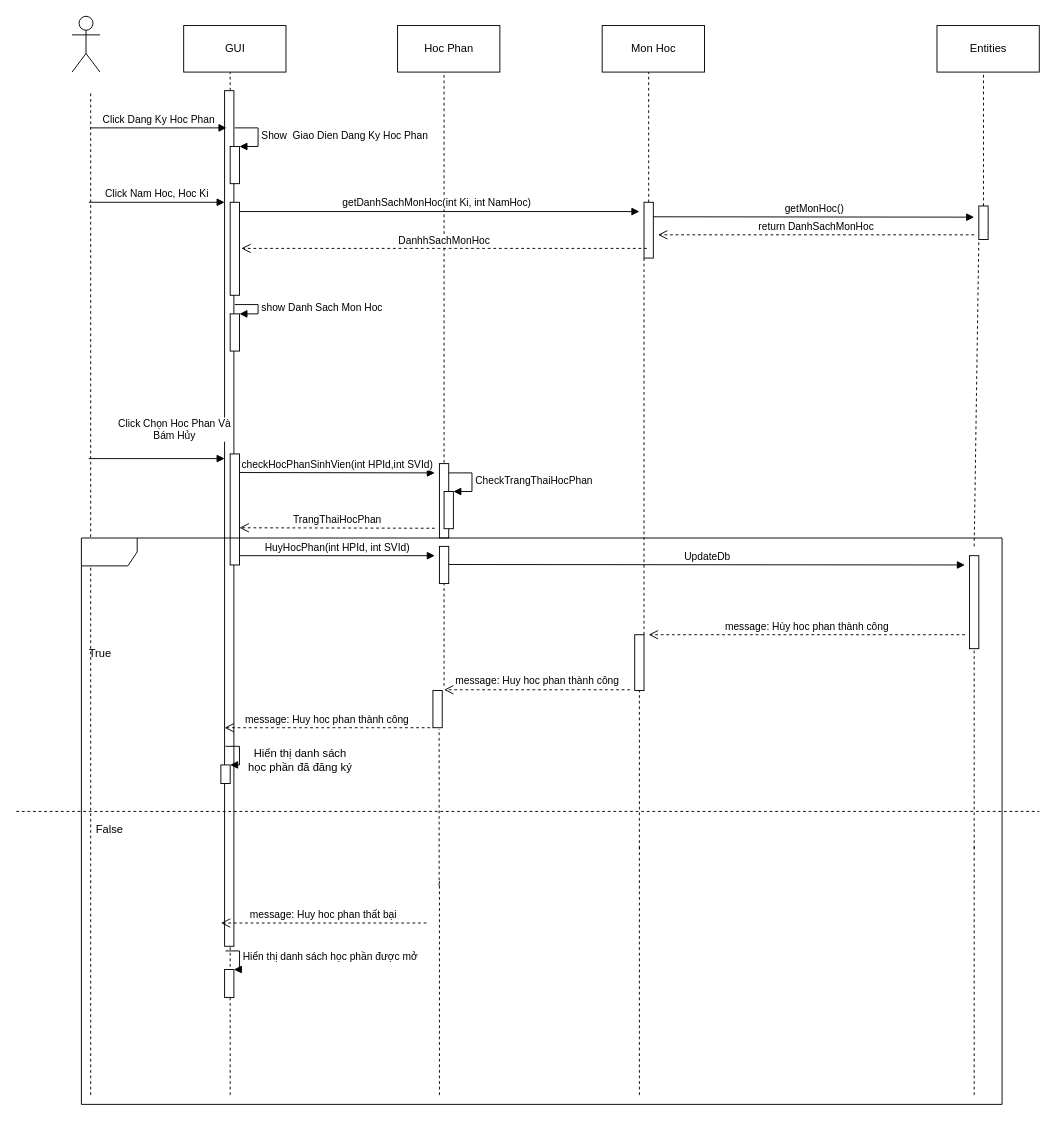
Some shapes in this 1056 by 1121 pixel diagram are drawn without their labels. Here are the shapes that lost their labels. From the top down, the centre of each, then its label:
At point (85, 43): "SinhVien".
At point (541, 820): "alt".
